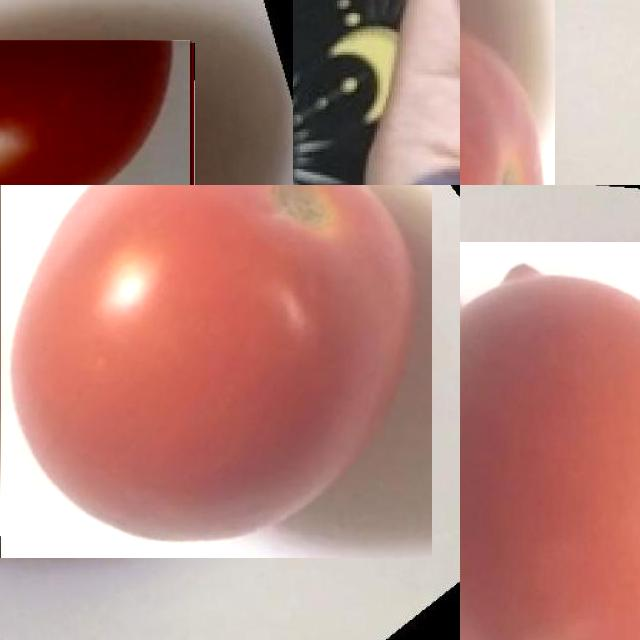Fresh Tomato: (0, 185, 432, 558), (460, 242, 640, 640), (0, 41, 192, 185), (460, 0, 555, 185)
